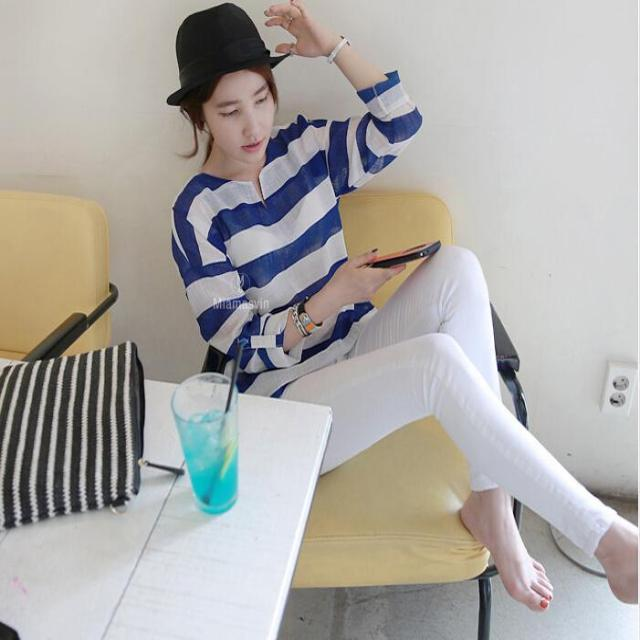long-sleeve-top: (170, 89, 443, 366)
trousers: (295, 372, 596, 584)
